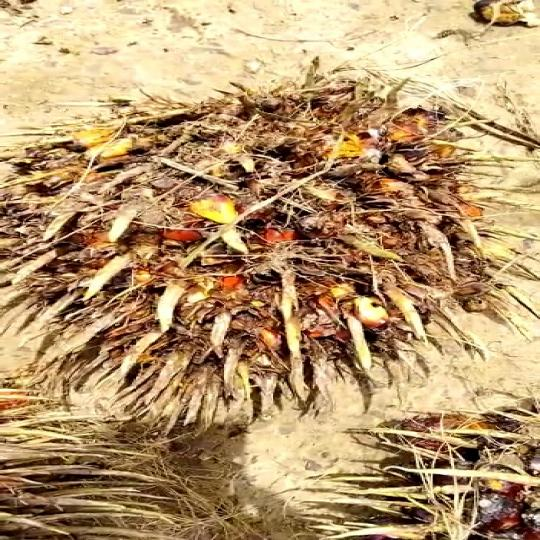terlalu masak: (0, 59, 540, 436)
